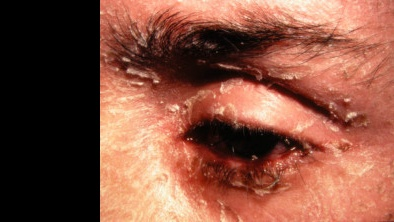SJS-TEN: (97, 0, 394, 222)
